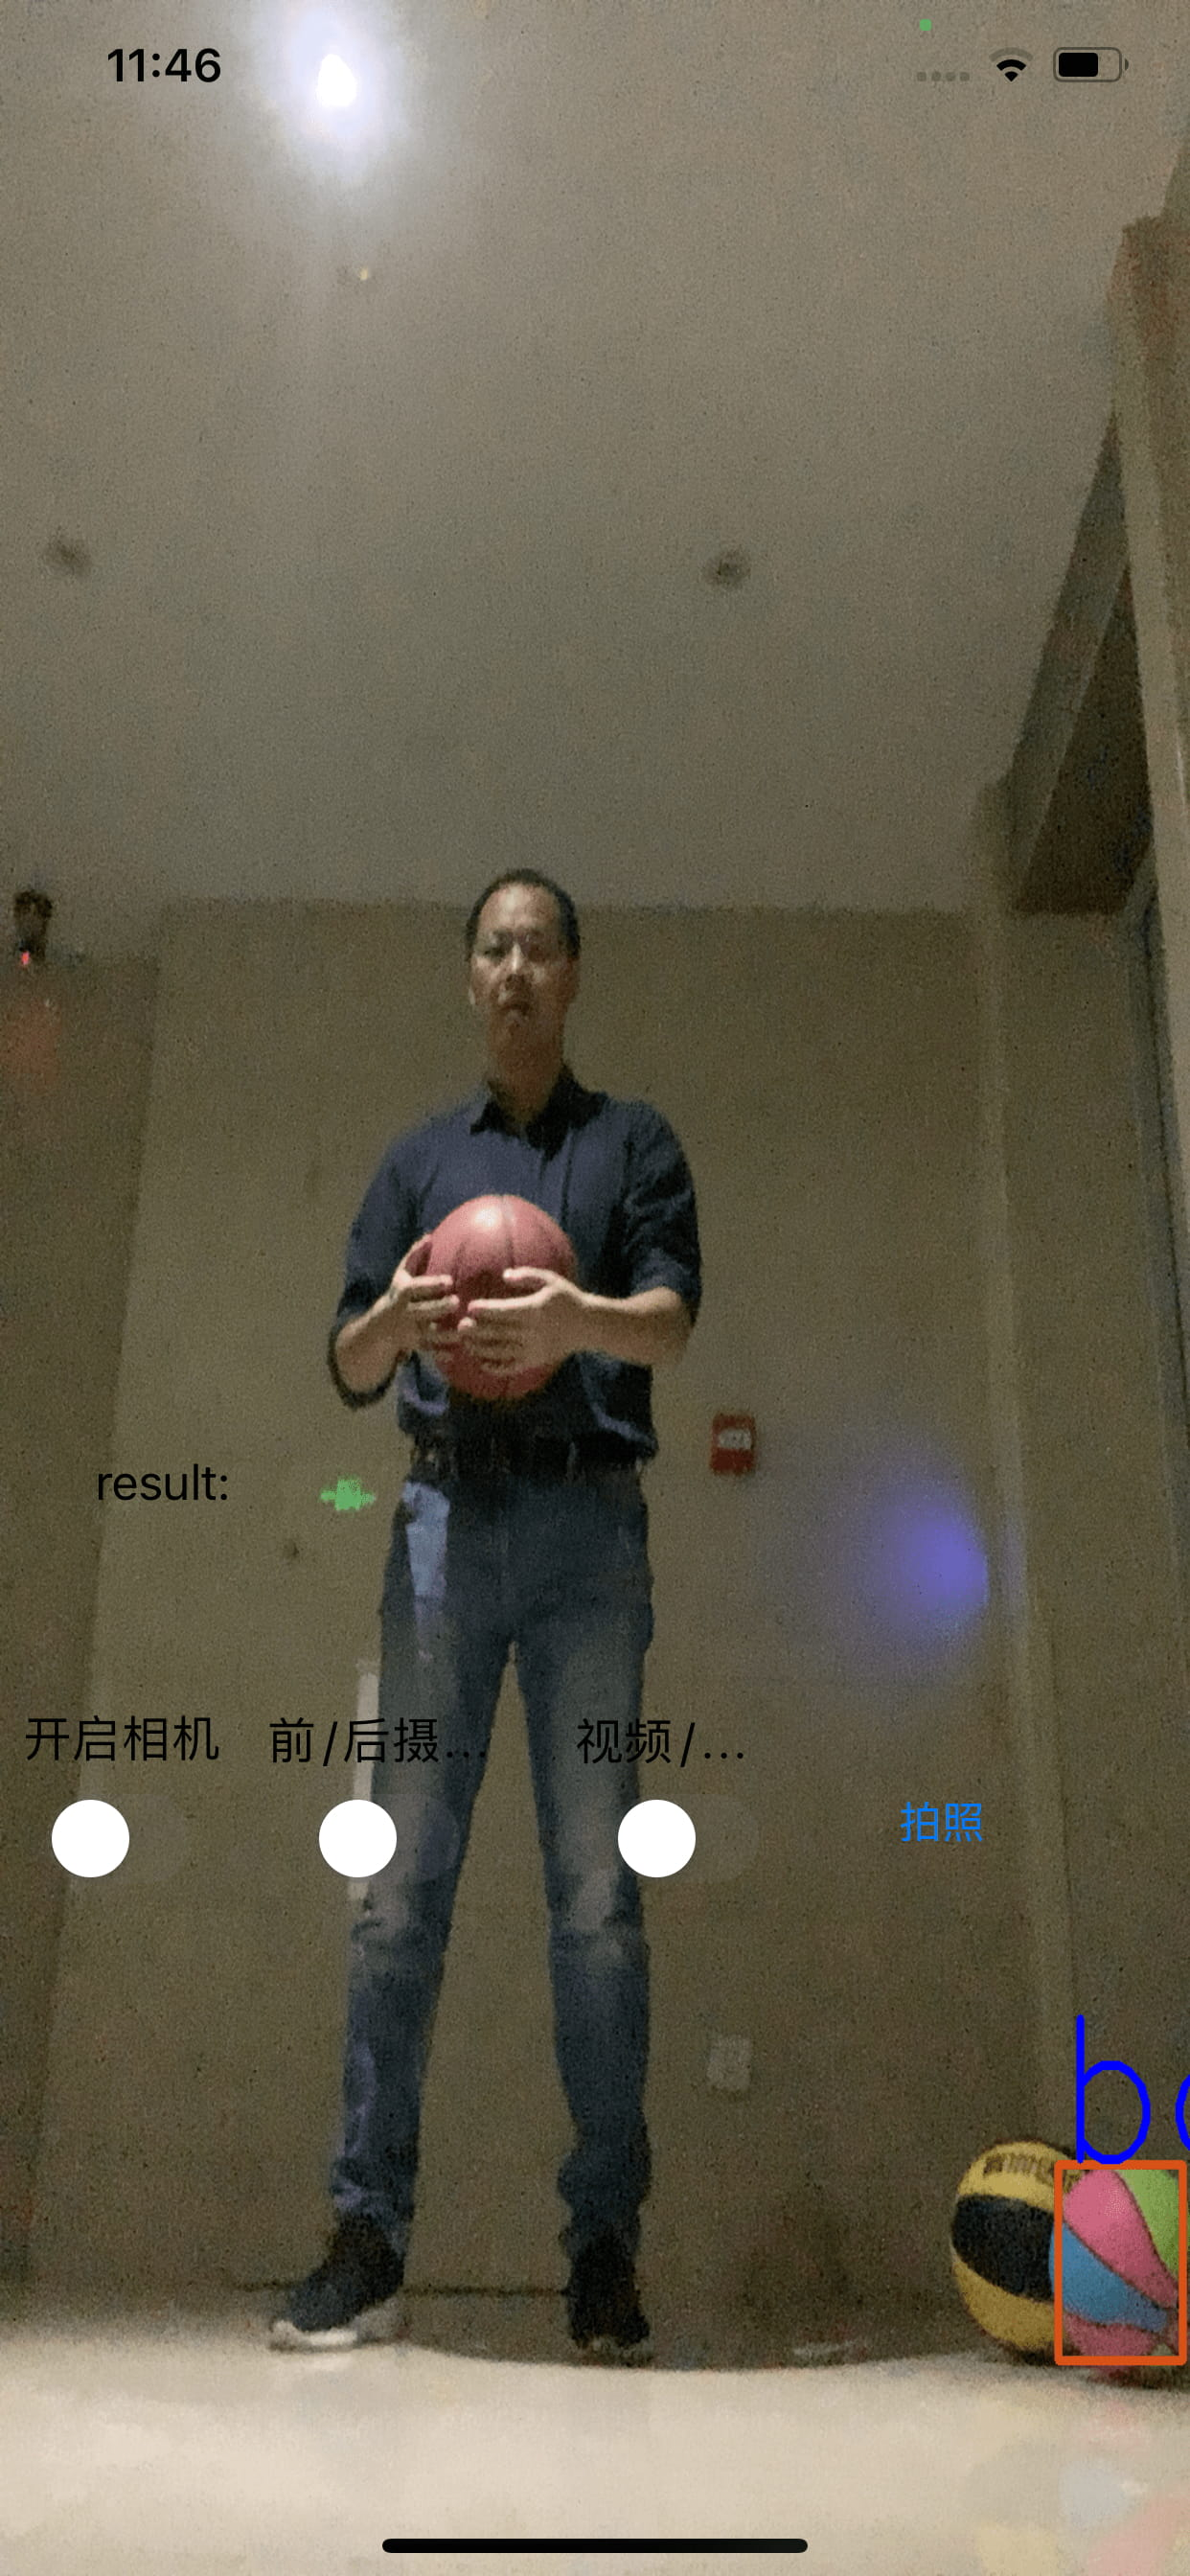ball: (408, 1191, 583, 1401), (948, 2136, 1068, 2379), (1060, 2164, 1177, 2362)
